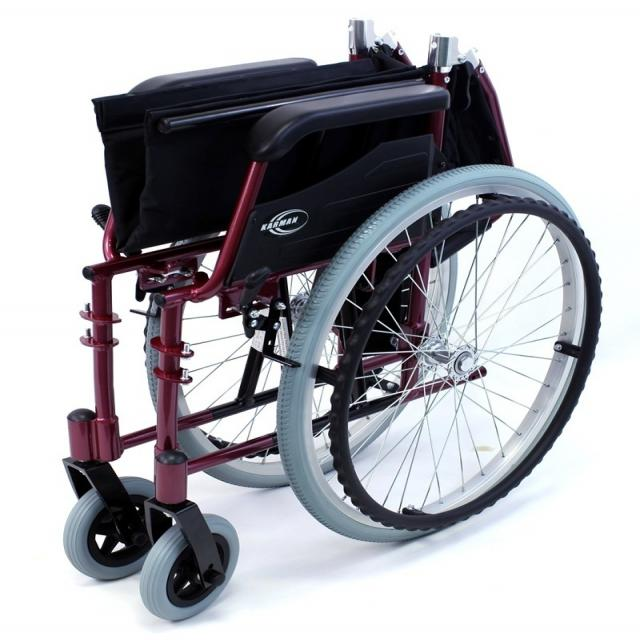wheelchair: (51, 10, 611, 638)
